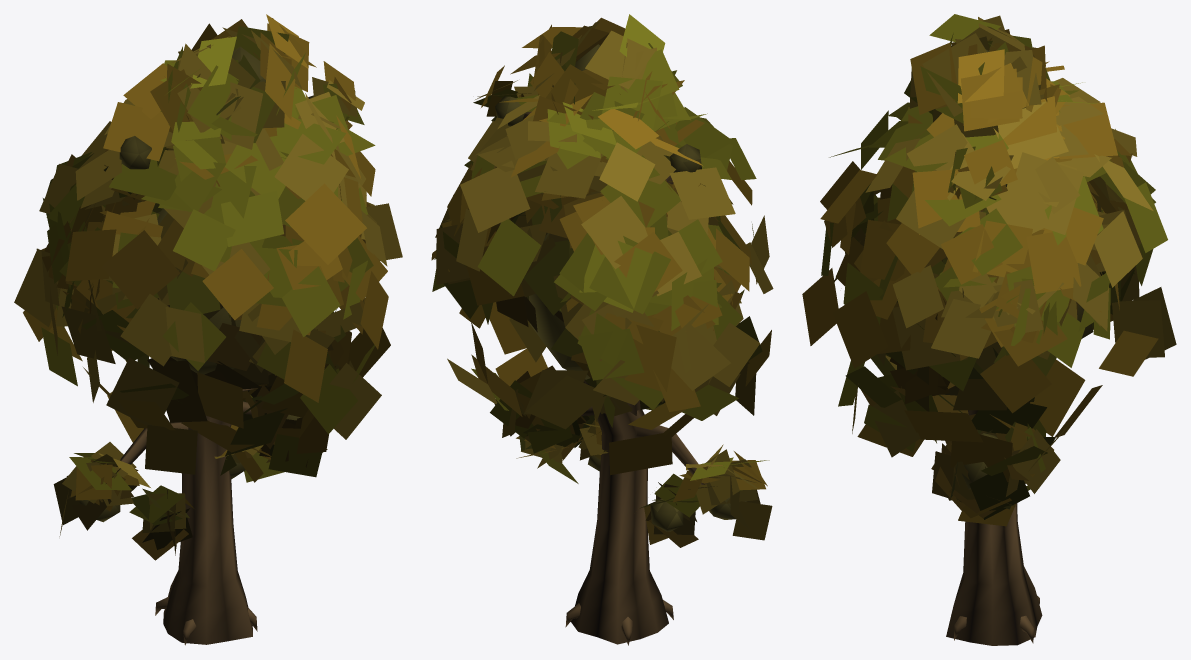
The model's file is tree-07.glb.
3 renders of one model, left to right at view 1: azimuth 30°, elevation 25°; view 2: azimuth 150°, elevation 25°; view 3: azimuth 270°, elevation 25°, orthographic. The views are drawn at different scales.
Visible parts, largest first — view 1: tree-07; view 2: tree-07; view 3: tree-07.
Part boxes in pixels (box(x1,y1,x2,y2)): tree-07: box(14, 14, 402, 645); tree-07: box(431, 14, 773, 645); tree-07: box(802, 14, 1176, 645).
Size of the model in its own units: 3.74 by 6.46 by 3.55.
